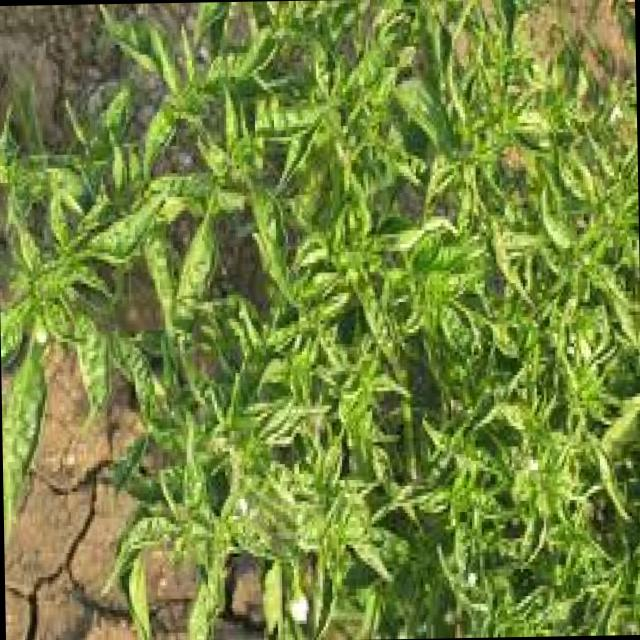Chilli_Leaf_Curl: (0, 0, 640, 640), (0, 84, 188, 550)
